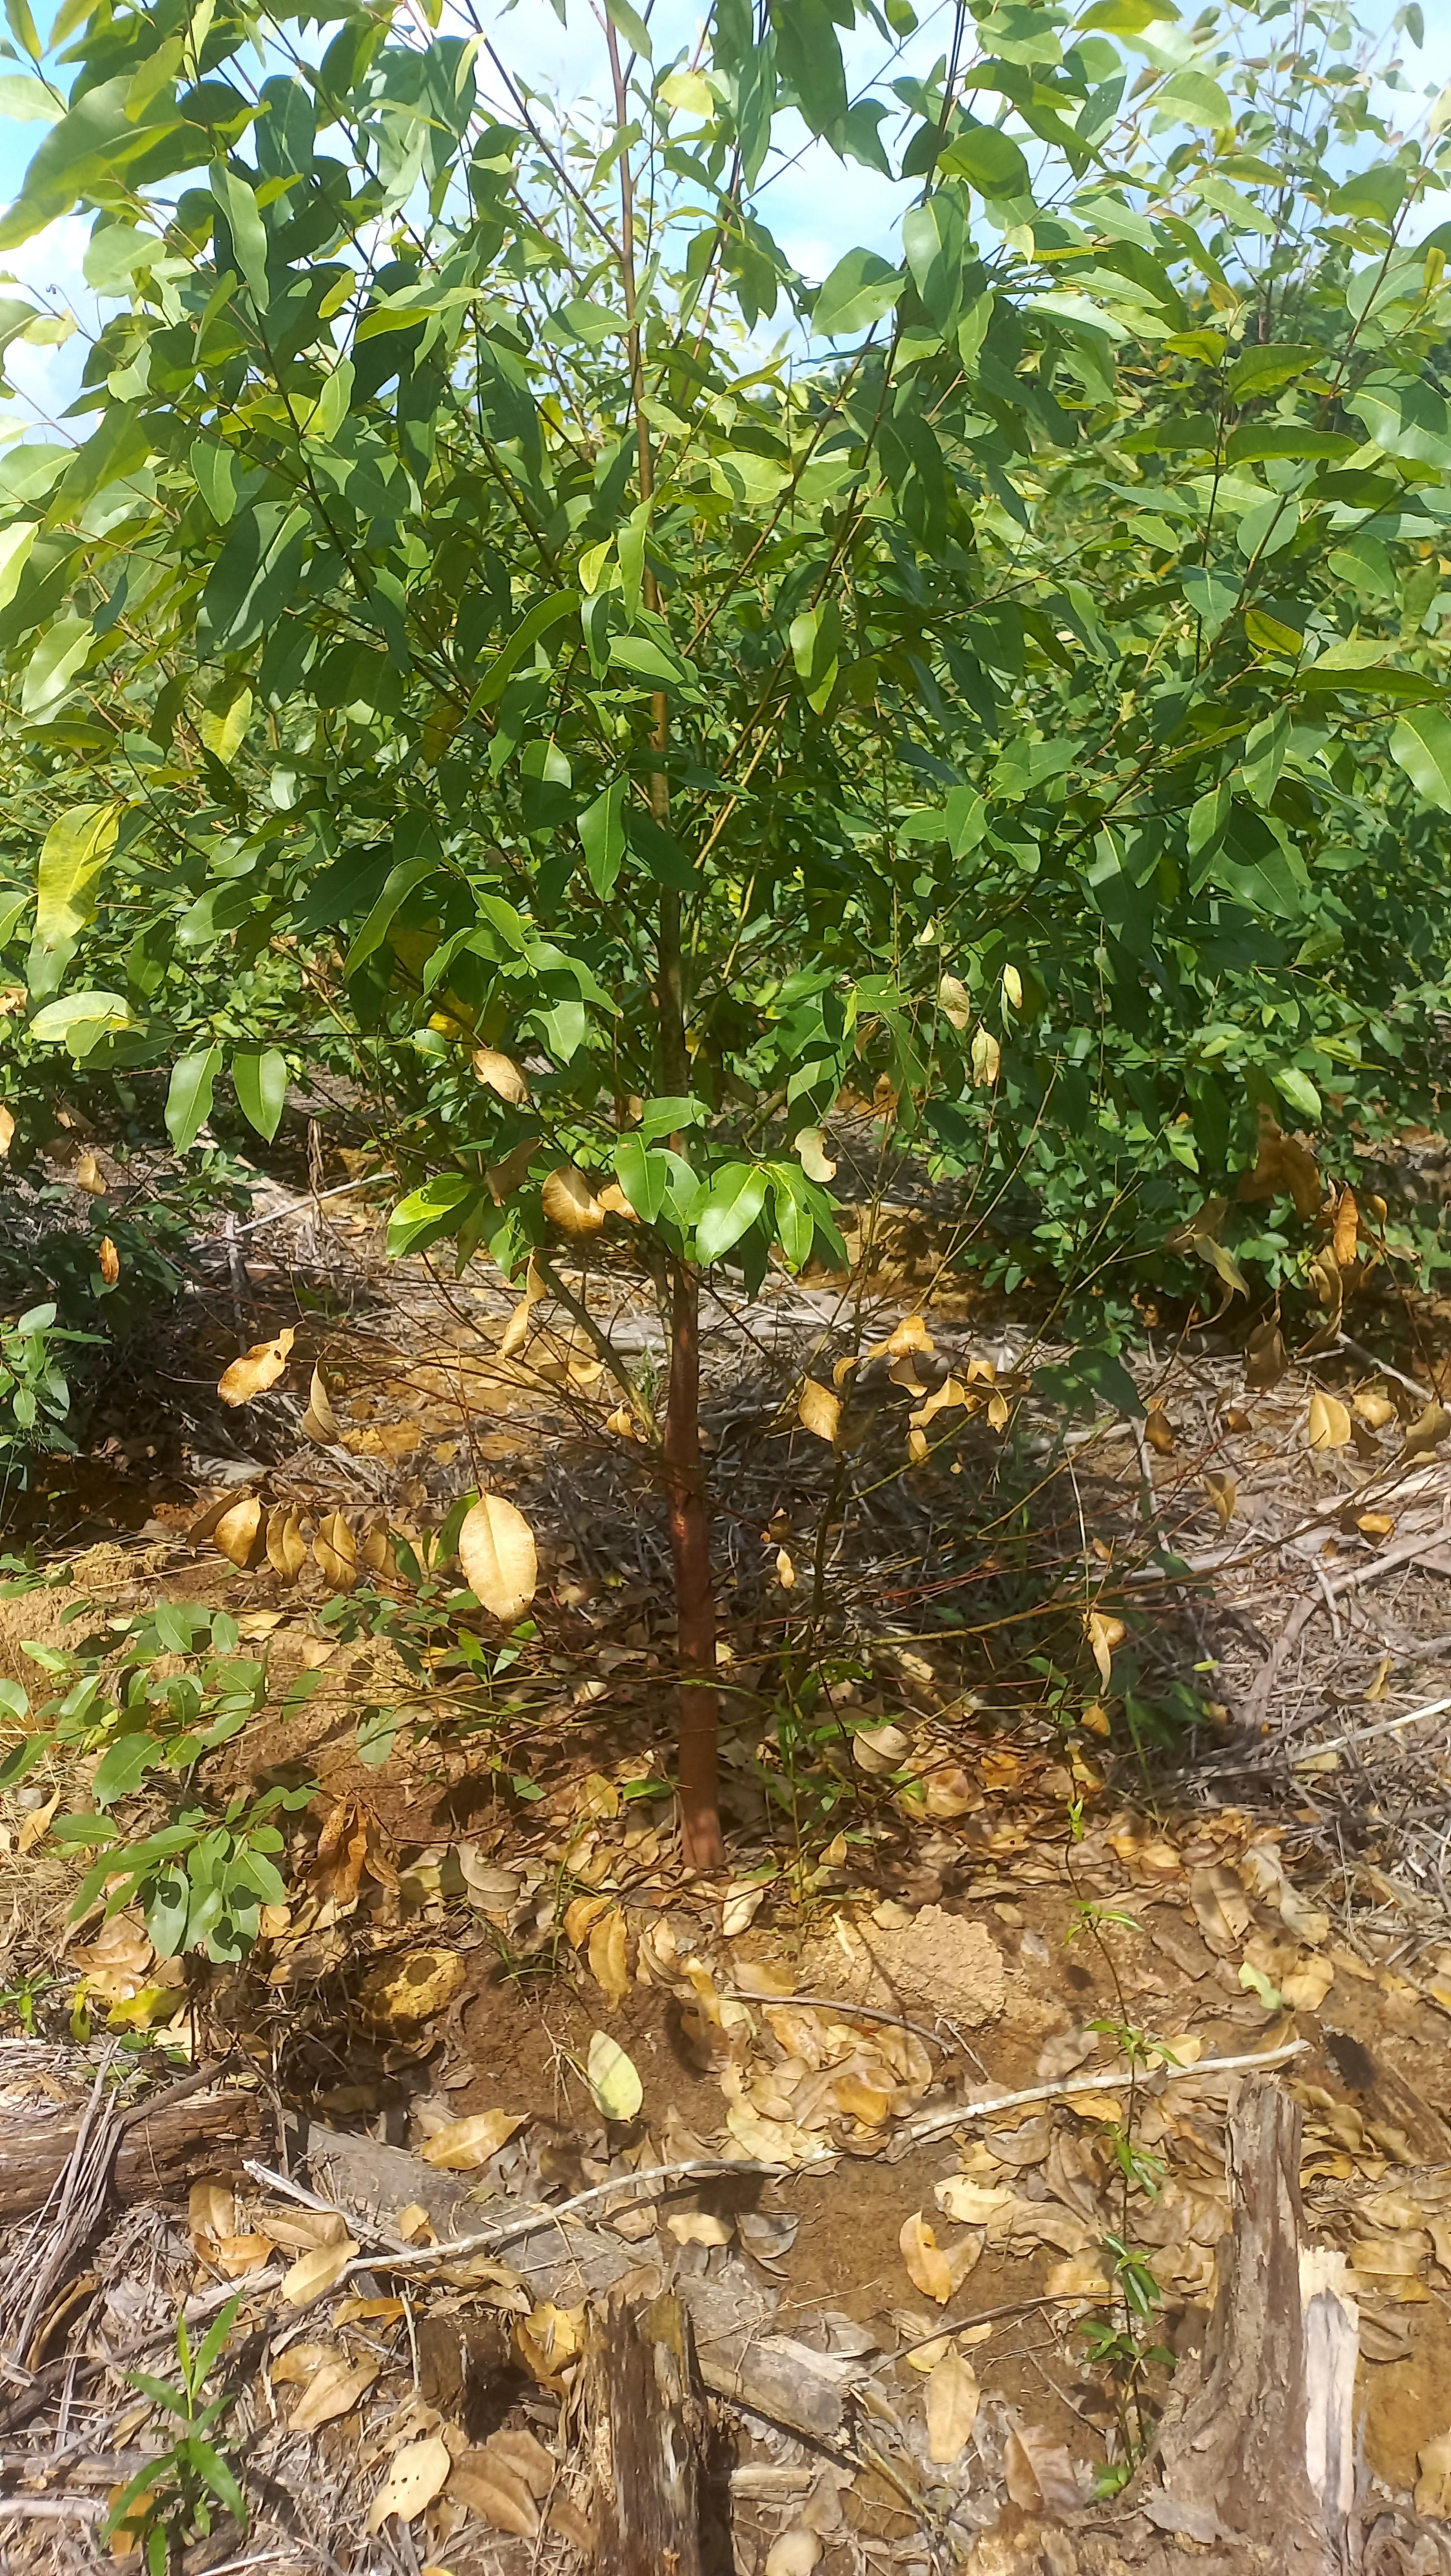Wither Tree Parts: (202, 1329, 495, 1596), (1166, 1111, 1391, 1332), (777, 1300, 1044, 1486), (520, 1154, 655, 1261)
